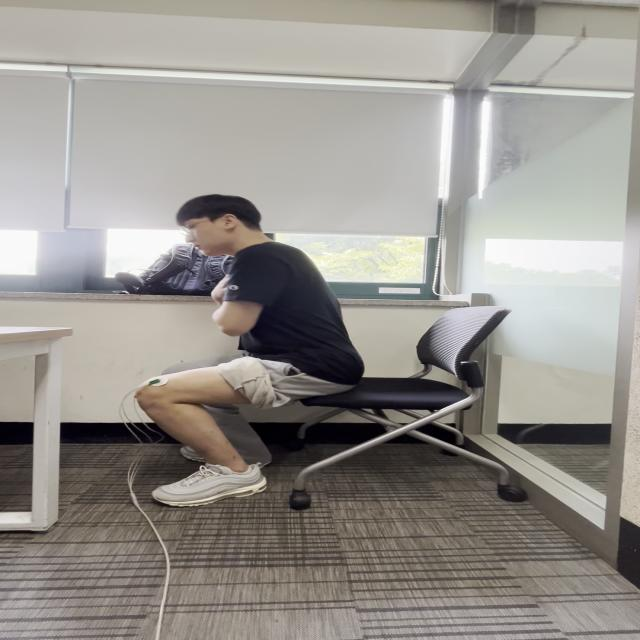squat: (128, 356, 355, 508), (213, 244, 366, 424), (140, 350, 358, 433)
